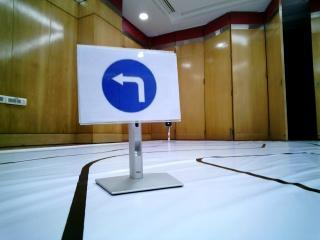left: (77, 45, 177, 125)
